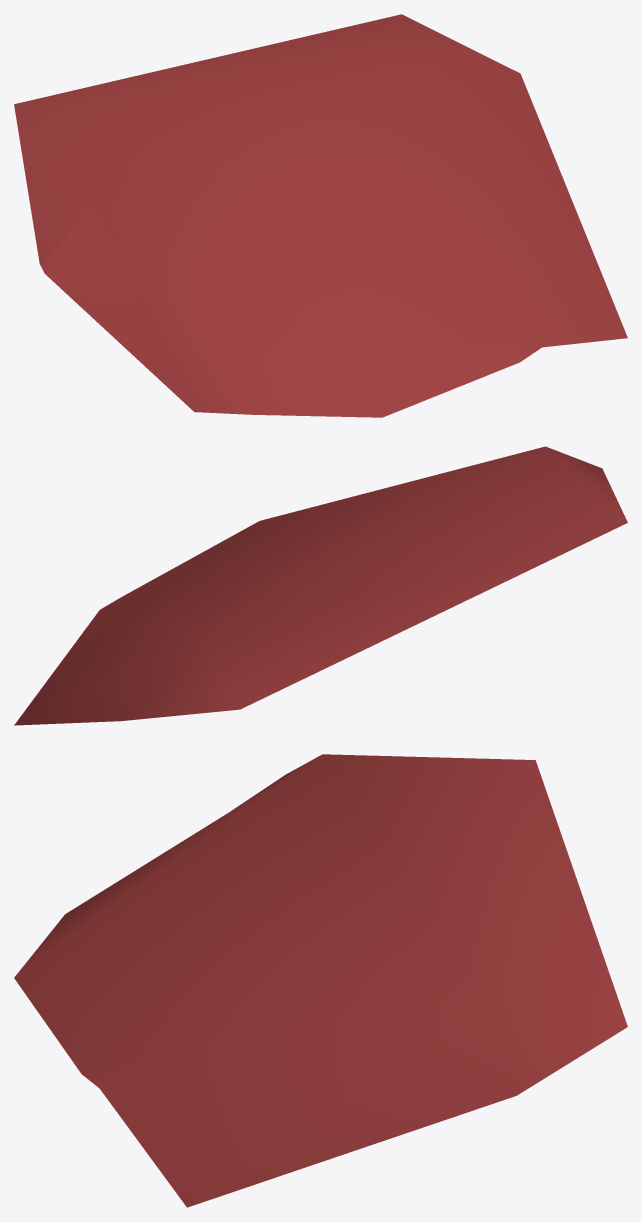
The model's file is extensor-digitorum-longus-el.glb.
3 renders of one model, top to bottom at view 1: azimuth 30°, elevation 25°; view 2: azimuth 210°, elevation 25°; view 3: azimuth 270°, elevation 25°, orthographic. The views are drawn at different scales.
Visible parts, largest first — view 1: Extensor digitorum longus.el; view 2: Extensor digitorum longus.el; view 3: Extensor digitorum longus.el.
Part boxes in pixels (<box>): Extensor digitorum longus.el: <box>14,14,627,417</box>; Extensor digitorum longus.el: <box>14,446,627,725</box>; Extensor digitorum longus.el: <box>14,754,627,1207</box>.
Bounding box in the file's own units: 0.00345 × 0.00122 × 0.00303.
